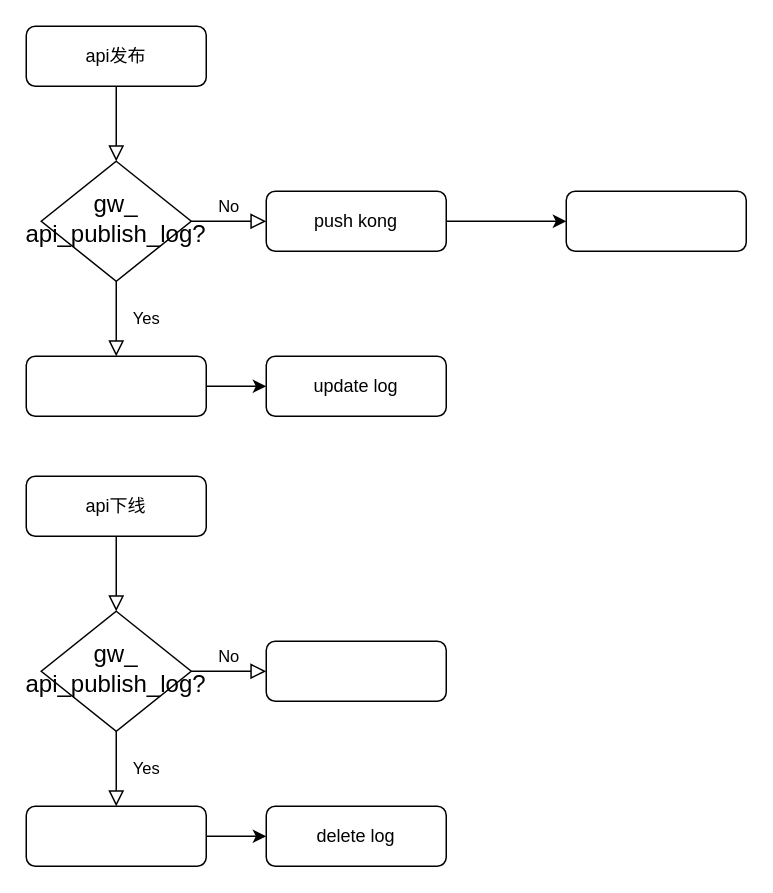
The diagram is 773 pixels wide and 893 high, and some of its shapes have lost their labels. The shapes that lost their labels are listed below. From the top down, each one's centre as x and y in pixels, then its label:
At (655,220): "insert log".
At (115,385): "update kong".
At (355,670): "error msg".
At (115,835): "kong route delete".
